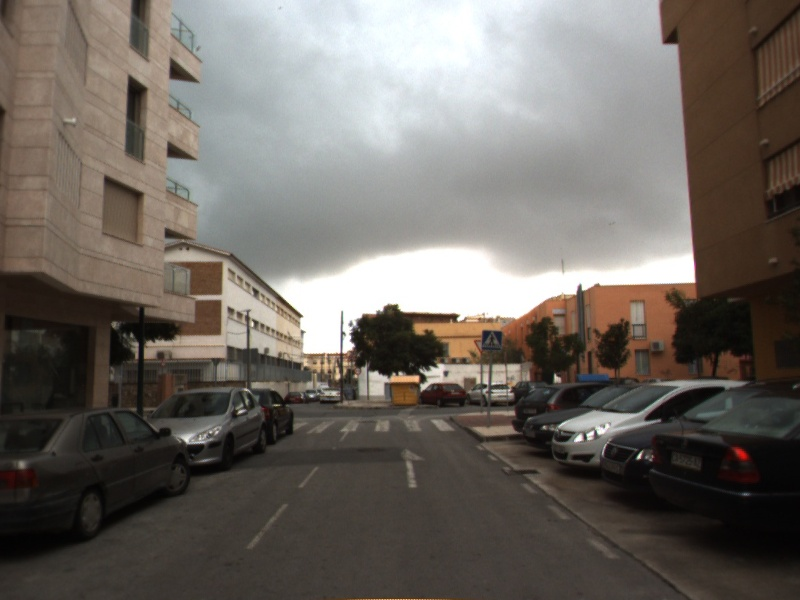STRAIGHT: (398, 446, 429, 490)
